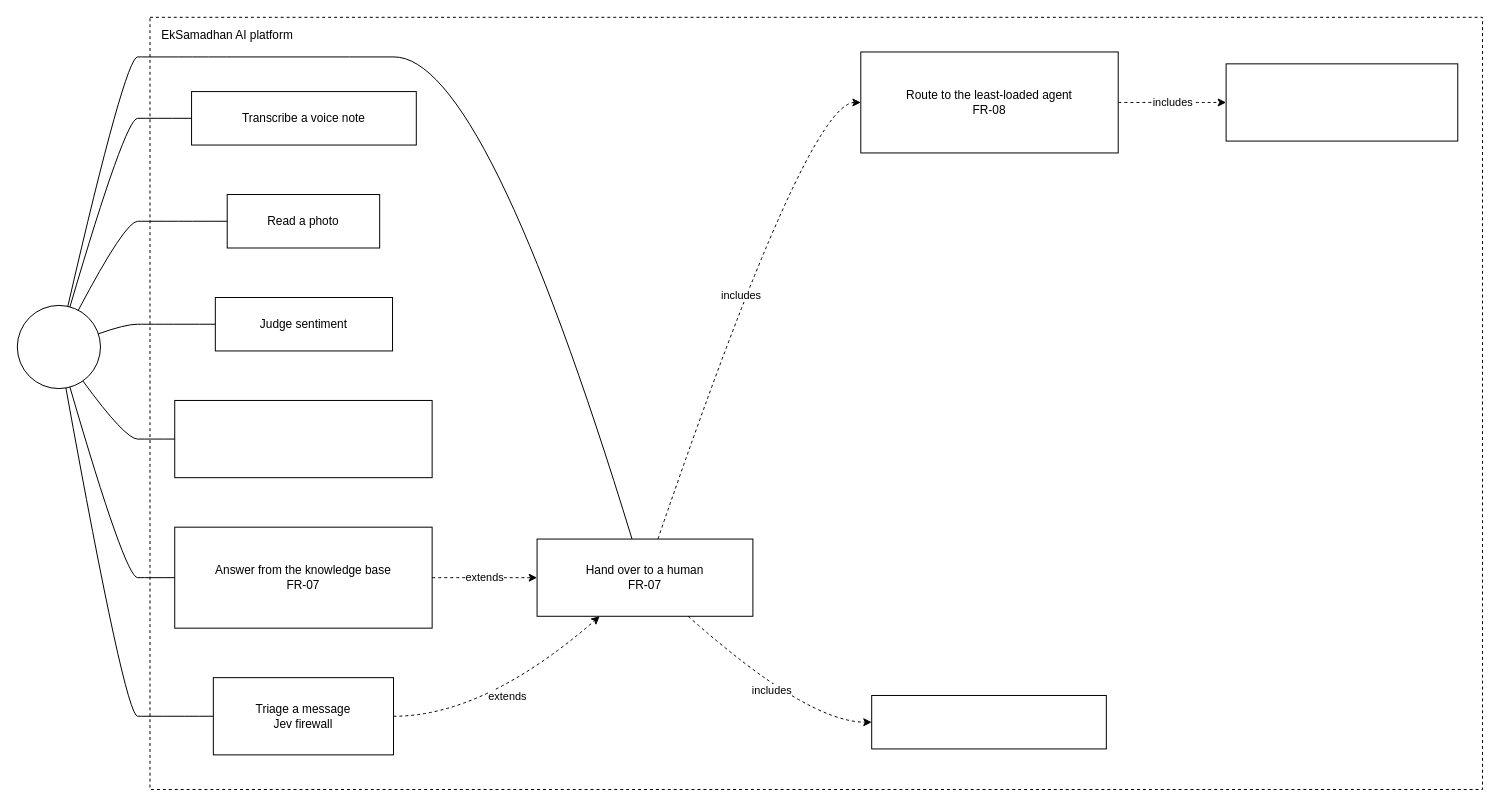
Image size: 1500x807. Some labels were removed from this diagram. Here are the shapes that lost their labels. From the top down, the centre of each, then its label:
At (1341,102): "Alert the assigned agent FR-09".
At (58,346): "AI System".
At (303,438): "Close an off-topic conversation".
At (988,721): "Write the handover brief".
